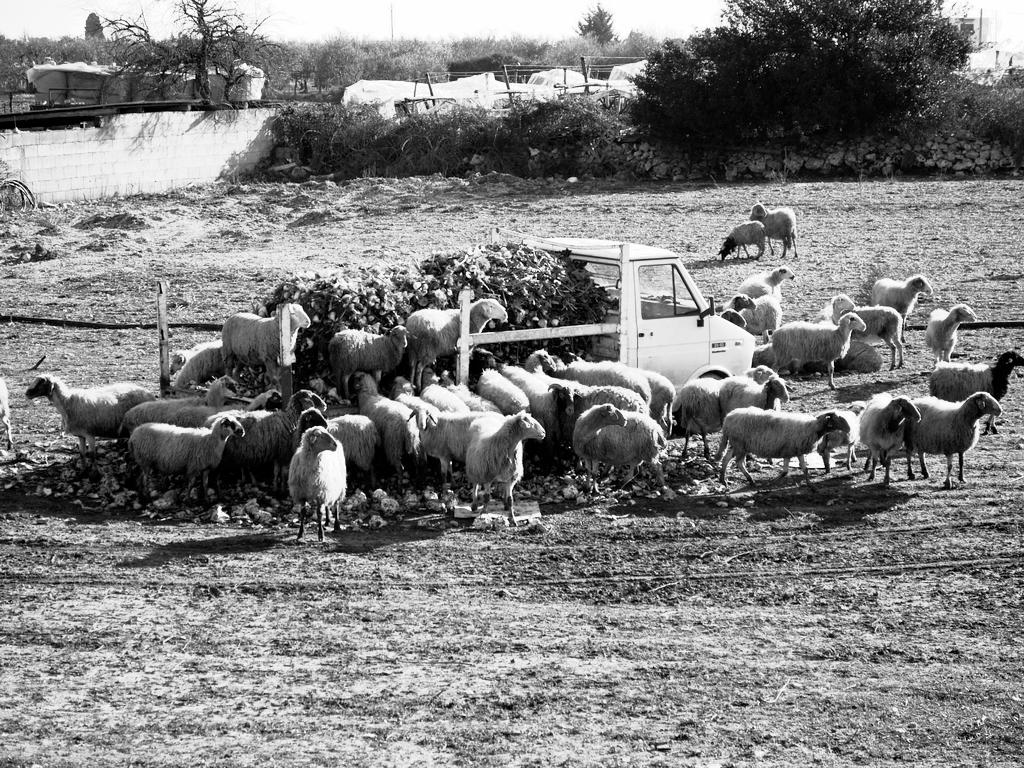Sheep: (203, 389, 331, 499), (25, 371, 157, 464), (128, 411, 252, 510), (458, 402, 548, 536), (119, 374, 243, 469), (706, 406, 851, 486), (570, 404, 670, 504), (349, 366, 421, 489), (917, 390, 1002, 493), (927, 350, 1024, 438), (281, 428, 353, 546), (765, 311, 870, 388), (216, 300, 313, 383), (407, 296, 513, 370), (858, 390, 922, 488), (829, 293, 907, 373), (325, 322, 410, 395), (924, 297, 985, 376), (737, 262, 801, 318), (867, 271, 937, 316), (749, 198, 800, 255)
